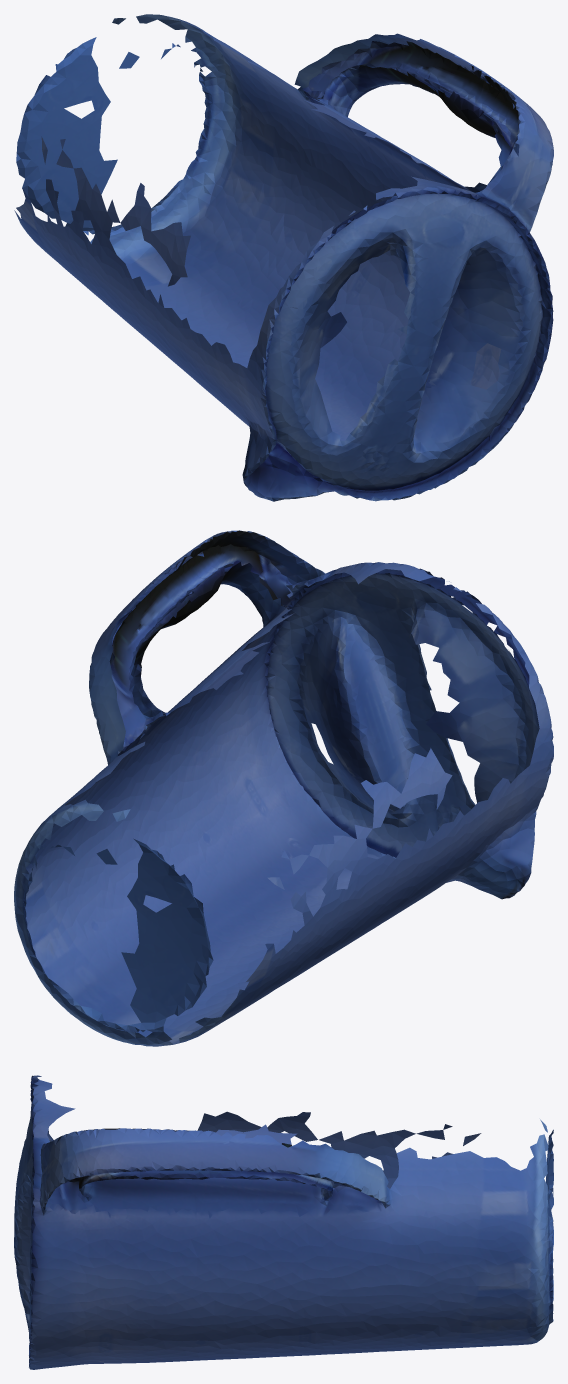
The model's file is visible_mesh.obj.
3 renders of one model, top to bottom at view 1: azimuth 30°, elevation 25°; view 2: azimuth 150°, elevation 25°; view 3: azimuth 270°, elevation 25°, orthographic. The views are drawn at different scales.
Bounding box in the file's own units: 0.149 × 0.1448 × 0.2426.
1 material, 1 textured.
